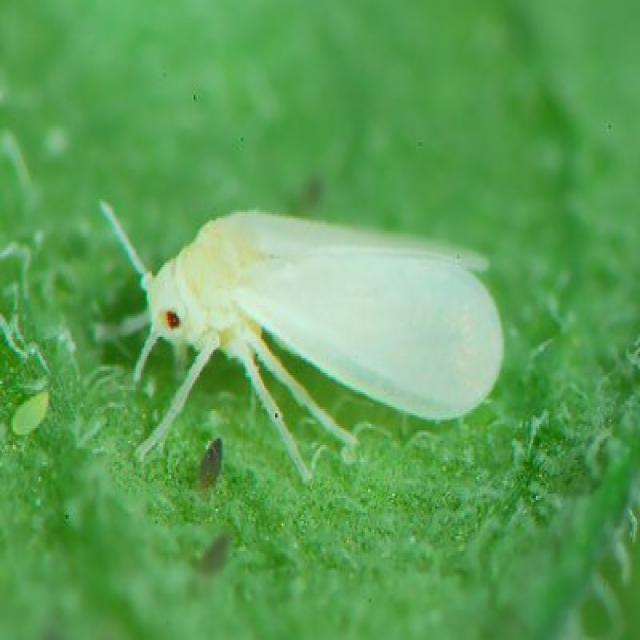Whitefly: (77, 183, 519, 505)
